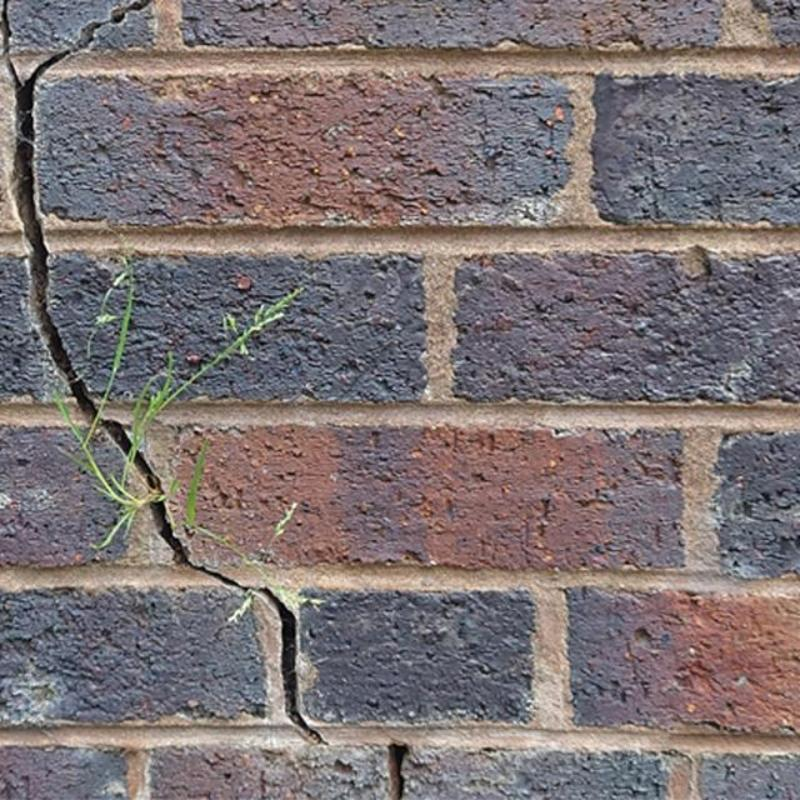pothole: (3, 0, 149, 420), (103, 419, 255, 592), (258, 588, 328, 745), (389, 744, 408, 800)
